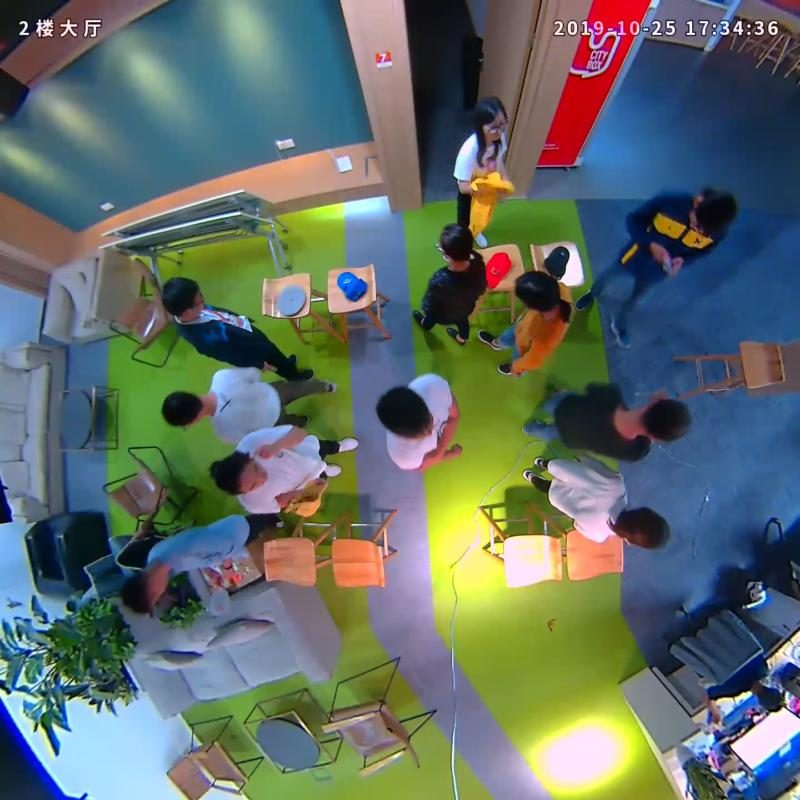head: (371, 381, 440, 444), (631, 392, 697, 448), (204, 447, 270, 500), (613, 502, 677, 555), (427, 219, 492, 268), (683, 186, 743, 239), (507, 263, 565, 315), (155, 274, 210, 327), (114, 564, 165, 616), (155, 386, 207, 431), (468, 93, 513, 138)
